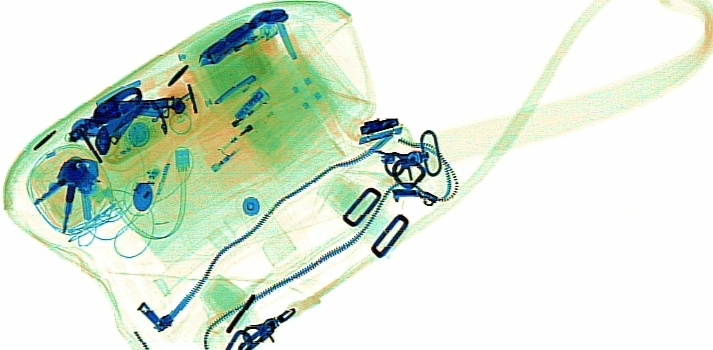lighter: (181, 18, 281, 81), (203, 100, 276, 170), (195, 86, 271, 152)
